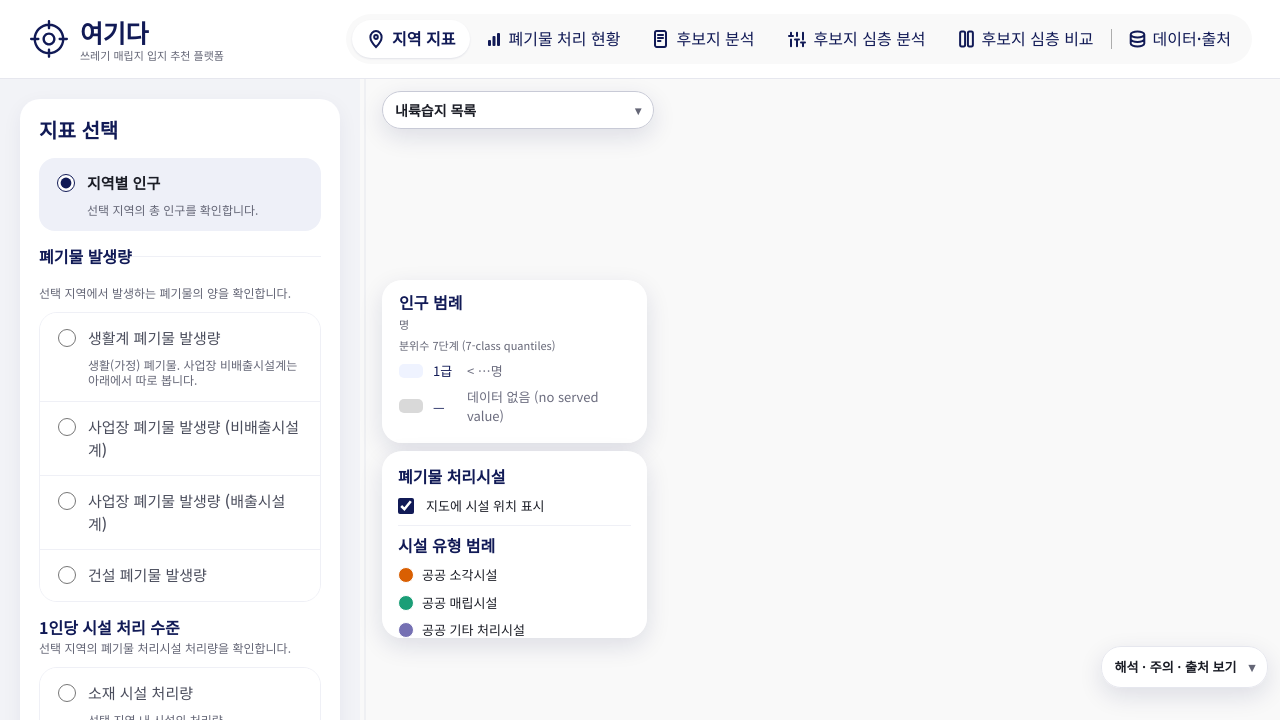
Test: ② 계산 모델 가중치 설정 — primary copy budget › carries no standing CRITIC derivation prose
What coordinates should you click on to do the following:
click the button with test id "mode-suitability"
I would click on:
 (856, 39)
Its box is [772,20,941,58].
(page scrolled)
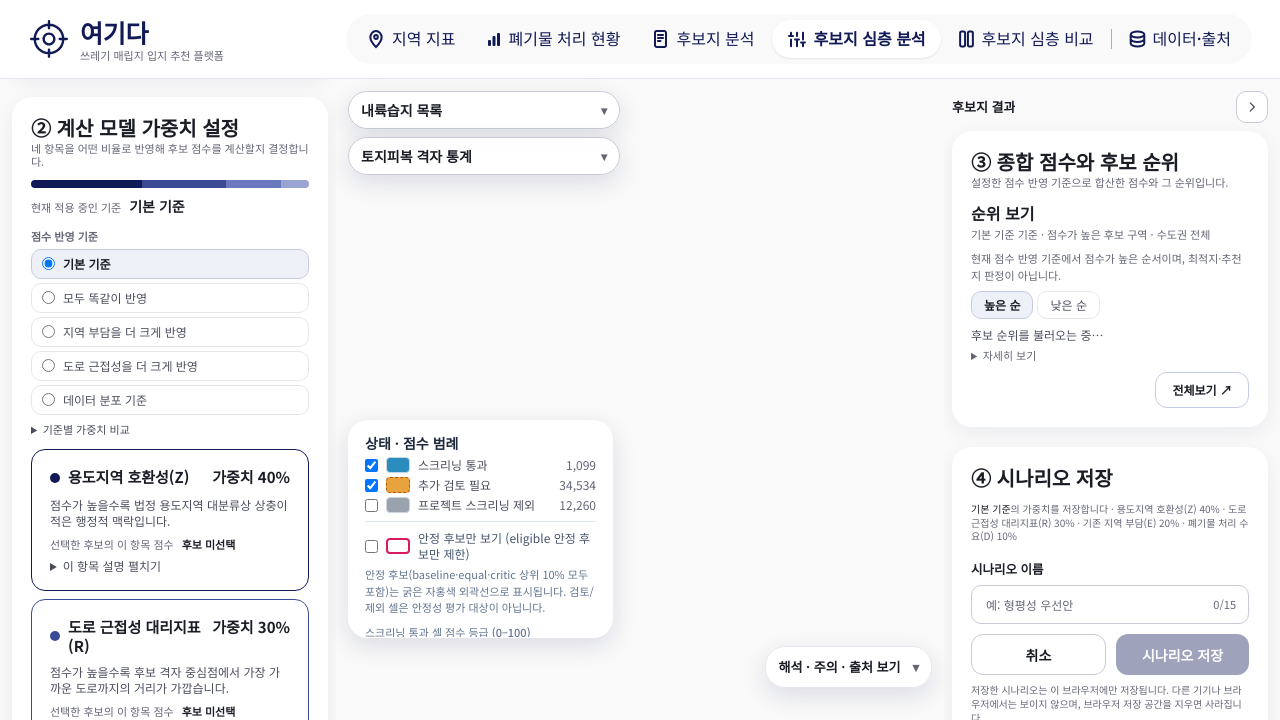
What coordinates should you click on to do the following:
click the radio button with test id "profile-radio-critic"
I would click on:
 (48, 400)
Its box is [42,393,55,406].
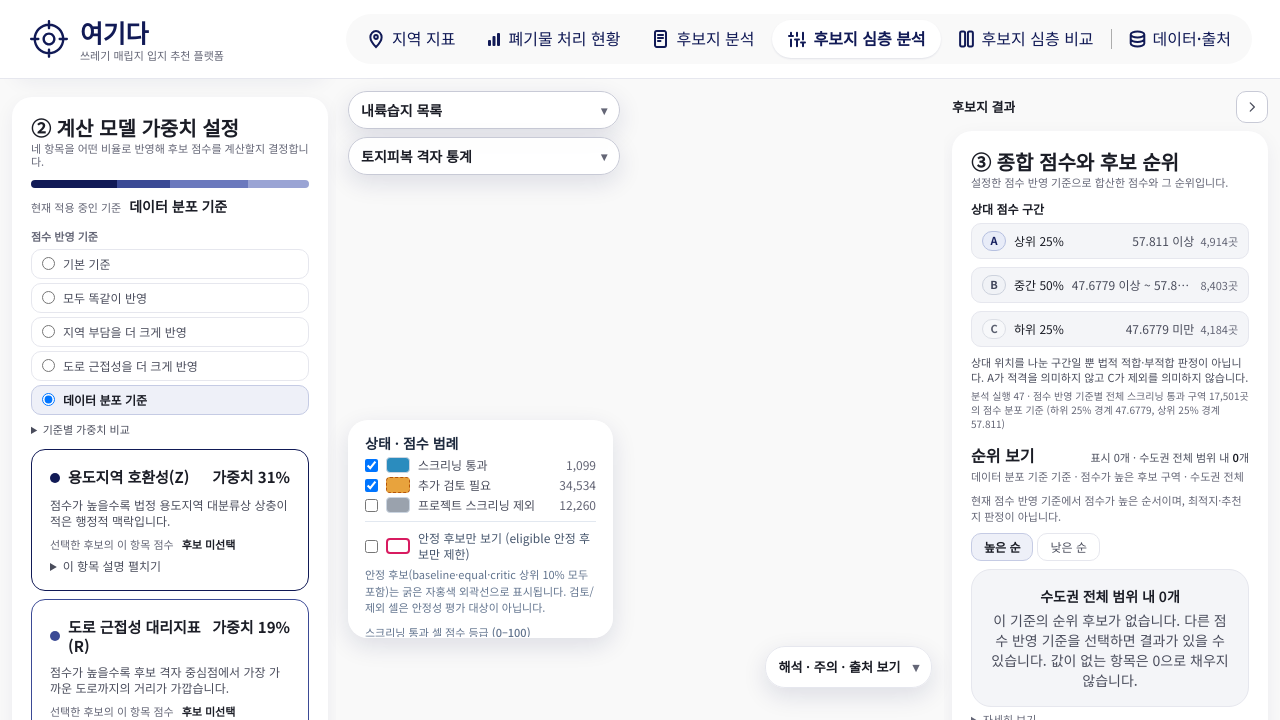
Result: the text with test id "active-basis-name" reads "데이터 분포 기준" at [129,196,227,216]
